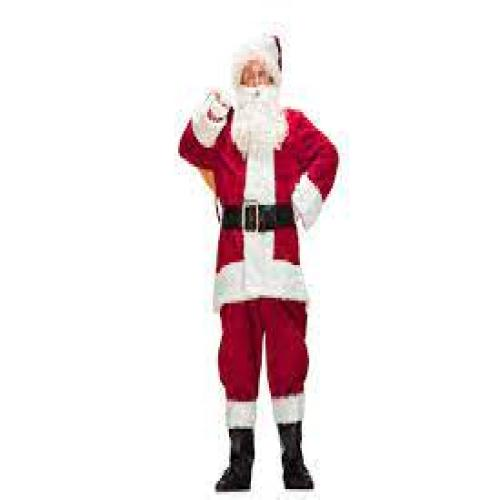Santa: (178, 33, 340, 492)
